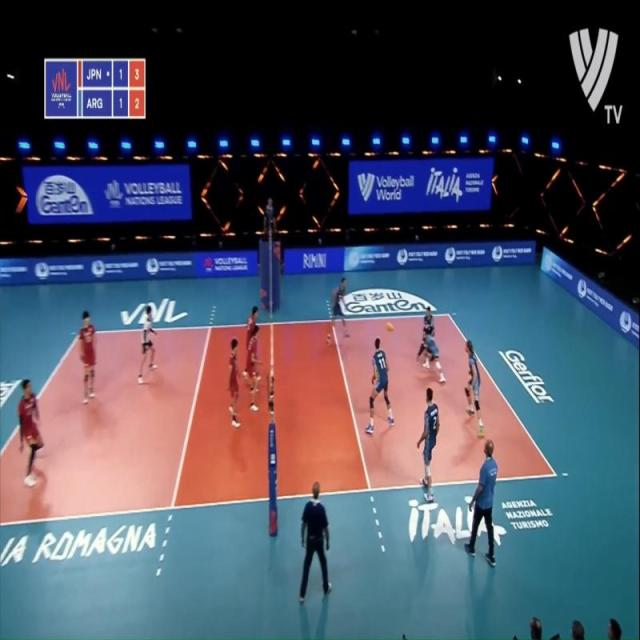volleyball: (386, 322, 394, 332)
